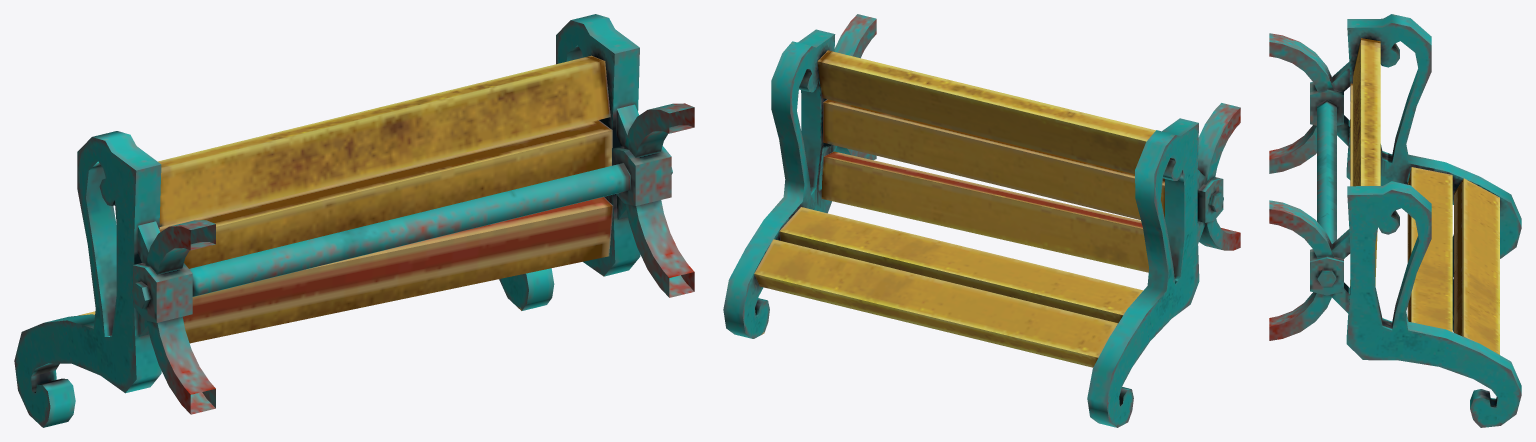
Rendered from Bench000.obj.
3 renders of one model, left to right at view 1: azimuth 30°, elevation 25°; view 2: azimuth 150°, elevation 25°; view 3: azimuth 270°, elevation 25°, orthographic. The views are drawn at different scales.
Visible parts, largest first — view 1: pCube2972__WoodBench00; view 2: pCube2972__WoodBench00; view 3: pCube2972__WoodBench00.
Part boxes in pixels (box(x1,y1,x2,y2)): pCube2972__WoodBench00: box(14, 14, 694, 427); pCube2972__WoodBench00: box(723, 14, 1240, 427); pCube2972__WoodBench00: box(1269, 14, 1521, 427).
Size of the model in its own units: 251 by 151 by 146.
Materials: 2 (1 with a texture image).
